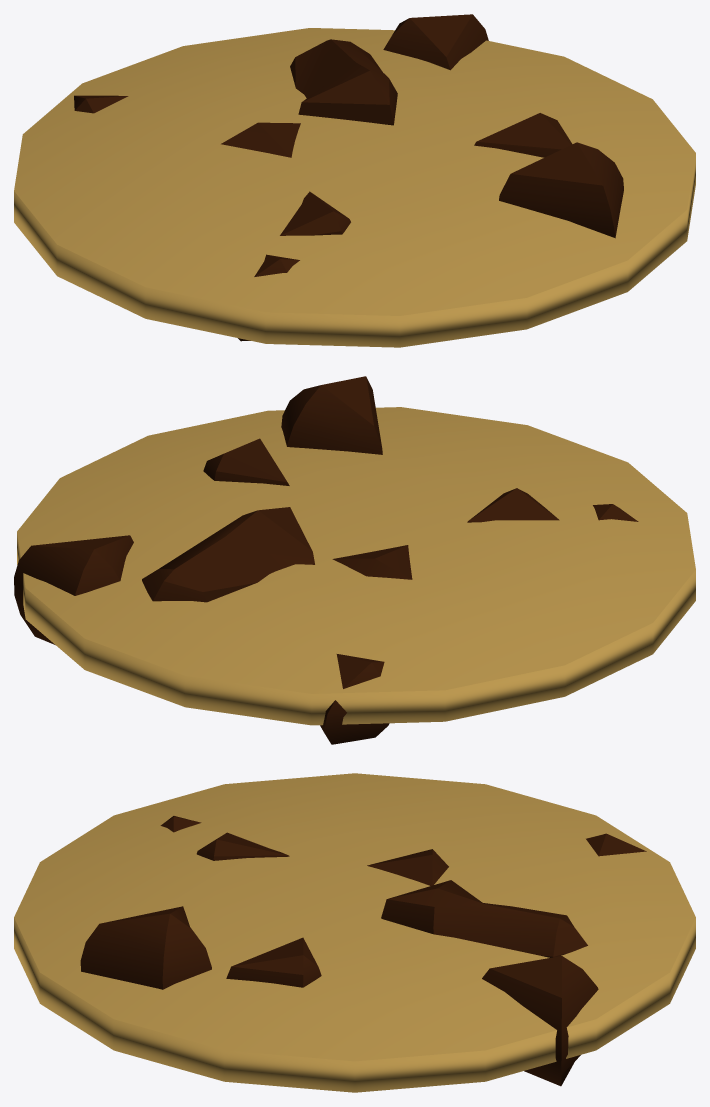
File: Cooooki colo scale ui dsqdsqd.fbx
3 views of the same model, one above another, from view 1: azimuth 30°, elevation 25°; view 2: azimuth 150°, elevation 25°; view 3: azimuth 270°, elevation 25° (orthographic).
Visible parts, largest first — view 1: Cylinder; view 2: Cylinder; view 3: Cylinder.
Boxes of the visible parts, x1,y1,x2,y2 form: Cylinder: [14, 14, 695, 347]; Cylinder: [14, 376, 695, 744]; Cylinder: [14, 773, 695, 1092].
Size of the model in its own units: 185 by 43.35 by 185.
